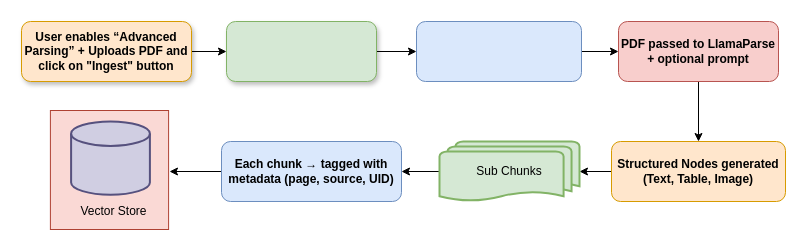
This 803x247 diagram has some shape labels left out. Each missing label, with the centre of its shape:
/ingest API called with subject, filename, use_llmaparse=true: (x=302, y=52)
Backend identifies parsing mode → LlamaParse: (x=499, y=51)
Vector Embeddings: (x=110, y=157)
